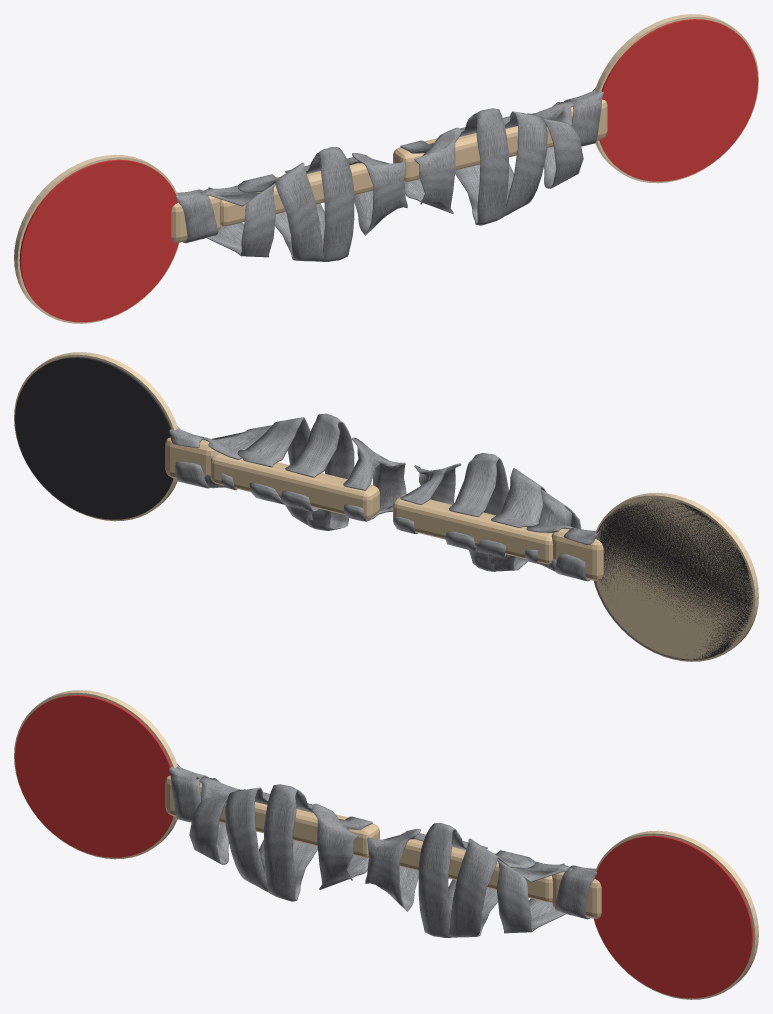
Rendered from bat.glb.
The picture shows the model from 3 angles, top to bottom: view 1: azimuth 30°, elevation 25°; view 2: azimuth 150°, elevation 25°; view 3: azimuth 330°, elevation 25°; orthographic projection.
Parts seen in each view (by area): view 1: bat.R, bat.L; view 2: bat.L, bat.R; view 3: bat.L, bat.R.
Part boxes in pixels (x1,y1,x2,y2): bat.R: [14, 147, 407, 323]; bat.L: [393, 14, 758, 225]; bat.L: [14, 352, 406, 530]; bat.R: [393, 453, 758, 661]; bat.L: [365, 823, 758, 999]; bat.R: [14, 690, 379, 901].
Bounding box in the file's own units: 0.7014 × 0.146 × 0.066.
5 materials, 1 textured.
